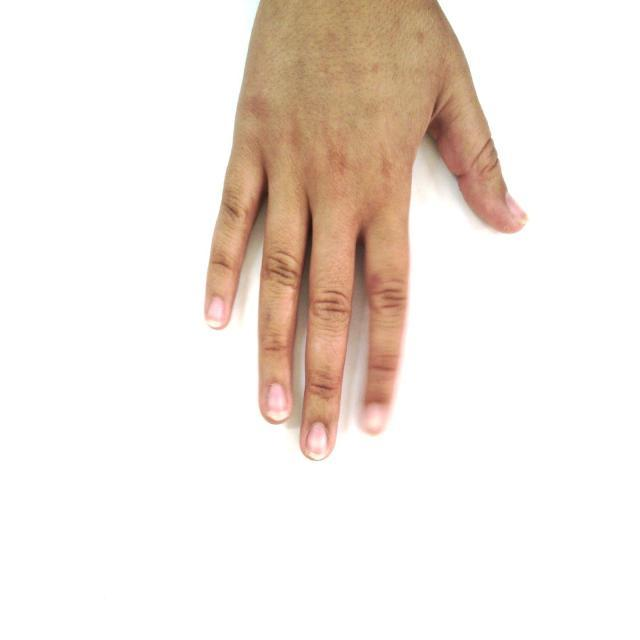Fingernail: (306, 423, 328, 459), (267, 383, 288, 420), (363, 405, 385, 433), (506, 195, 527, 222), (207, 297, 225, 325)
